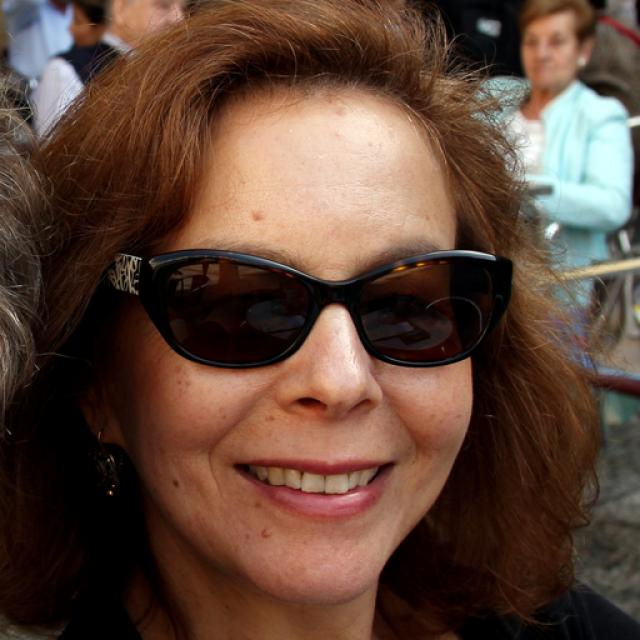Acne: (240, 207, 268, 230), (254, 521, 279, 543)
